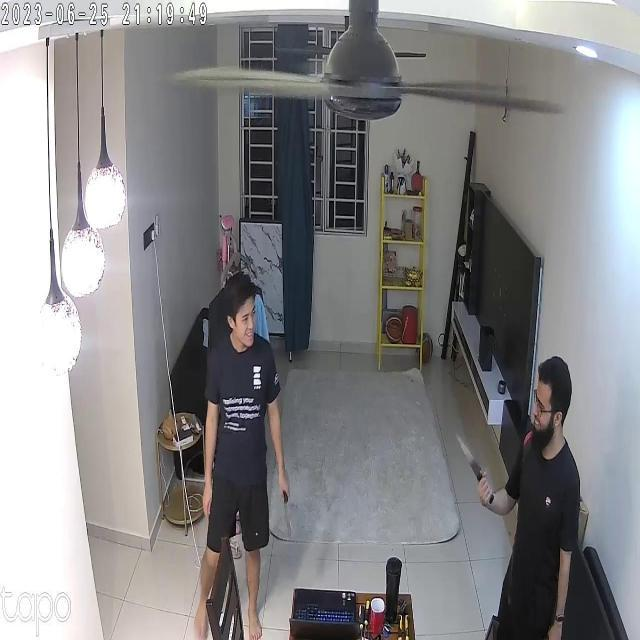Knife: (449, 419, 499, 503), (273, 476, 307, 546)
